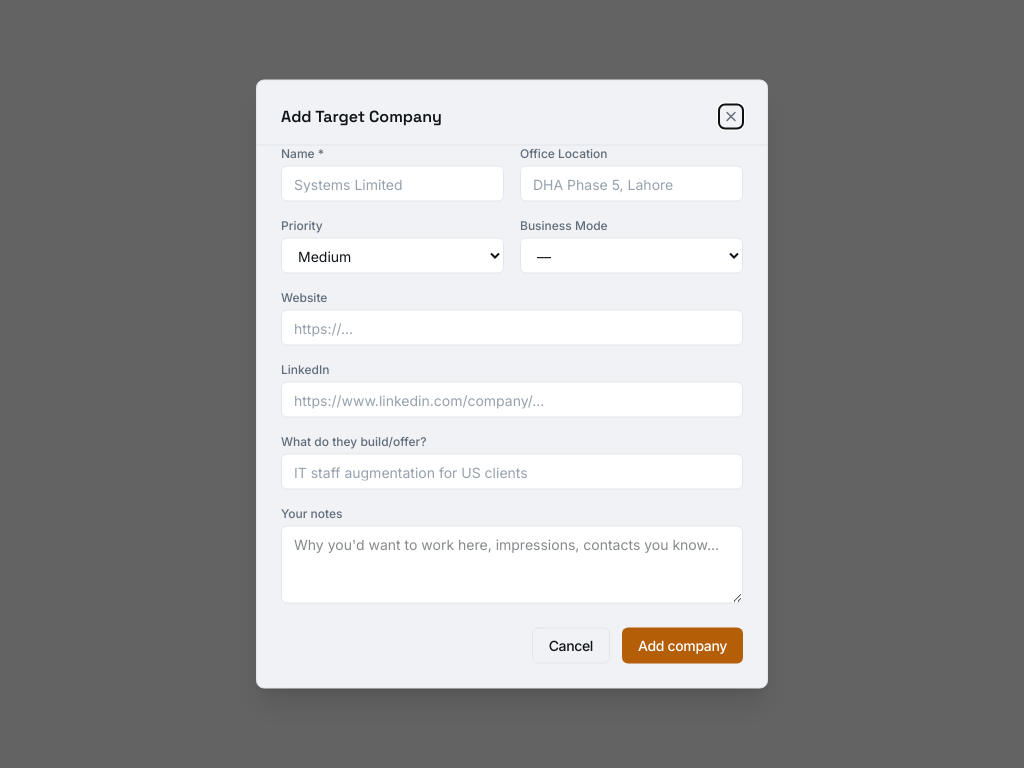
Scenario: CompanyForm › validation › shows a required-field error when submitting blank
Click the button "Add company": (682, 646) [622,628,743,664]
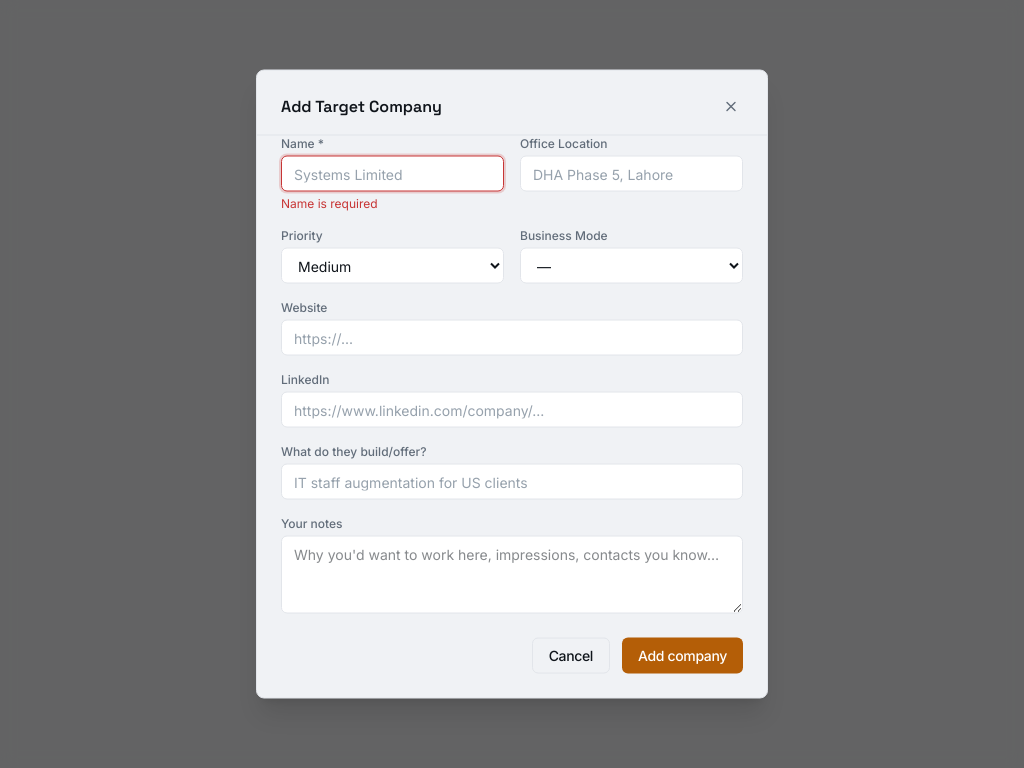
Expected: the text "Name is required" is shown, [281,196,378,210]
